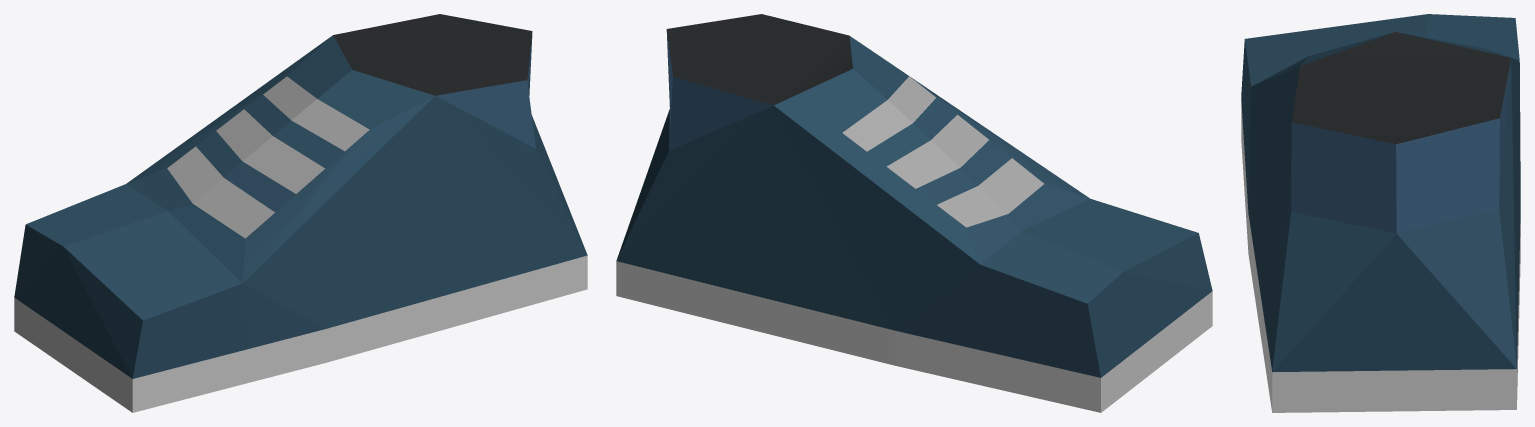
Rendered from SM_Prop_Shoes_02.glb.
3 renders of one model, left to right at view 1: azimuth 30°, elevation 25°; view 2: azimuth 150°, elevation 25°; view 3: azimuth 270°, elevation 25°, orthographic. The views are drawn at different scales.
Visible parts, largest first — view 1: SM_Prop_Shoes_02; view 2: SM_Prop_Shoes_02; view 3: SM_Prop_Shoes_02.
Boxes of the visible parts, x1=… form: SM_Prop_Shoes_02: x1=14, y1=14, x2=587, y2=412; SM_Prop_Shoes_02: x1=616, y1=14, x2=1212, y2=412; SM_Prop_Shoes_02: x1=1241, y1=14, x2=1520, y2=412.
Bounding box in the file's own units: 0.2233 × 0.1024 × 0.095.
1 material, 1 textured.
